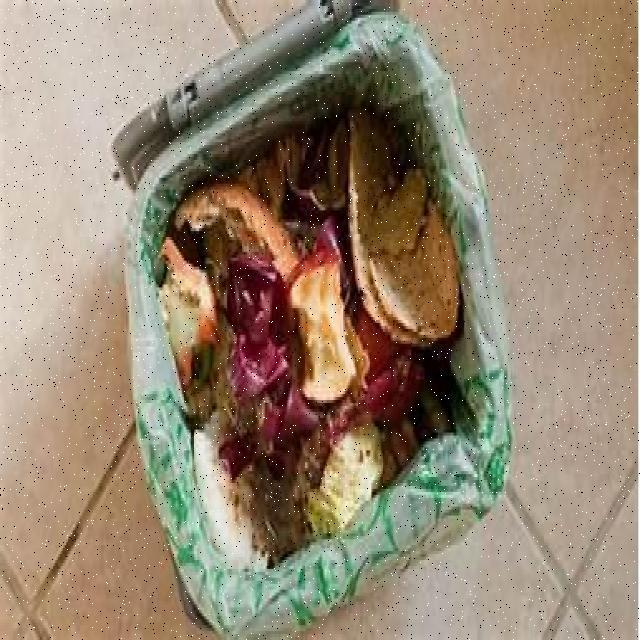Garbage: (160, 107, 461, 569)
